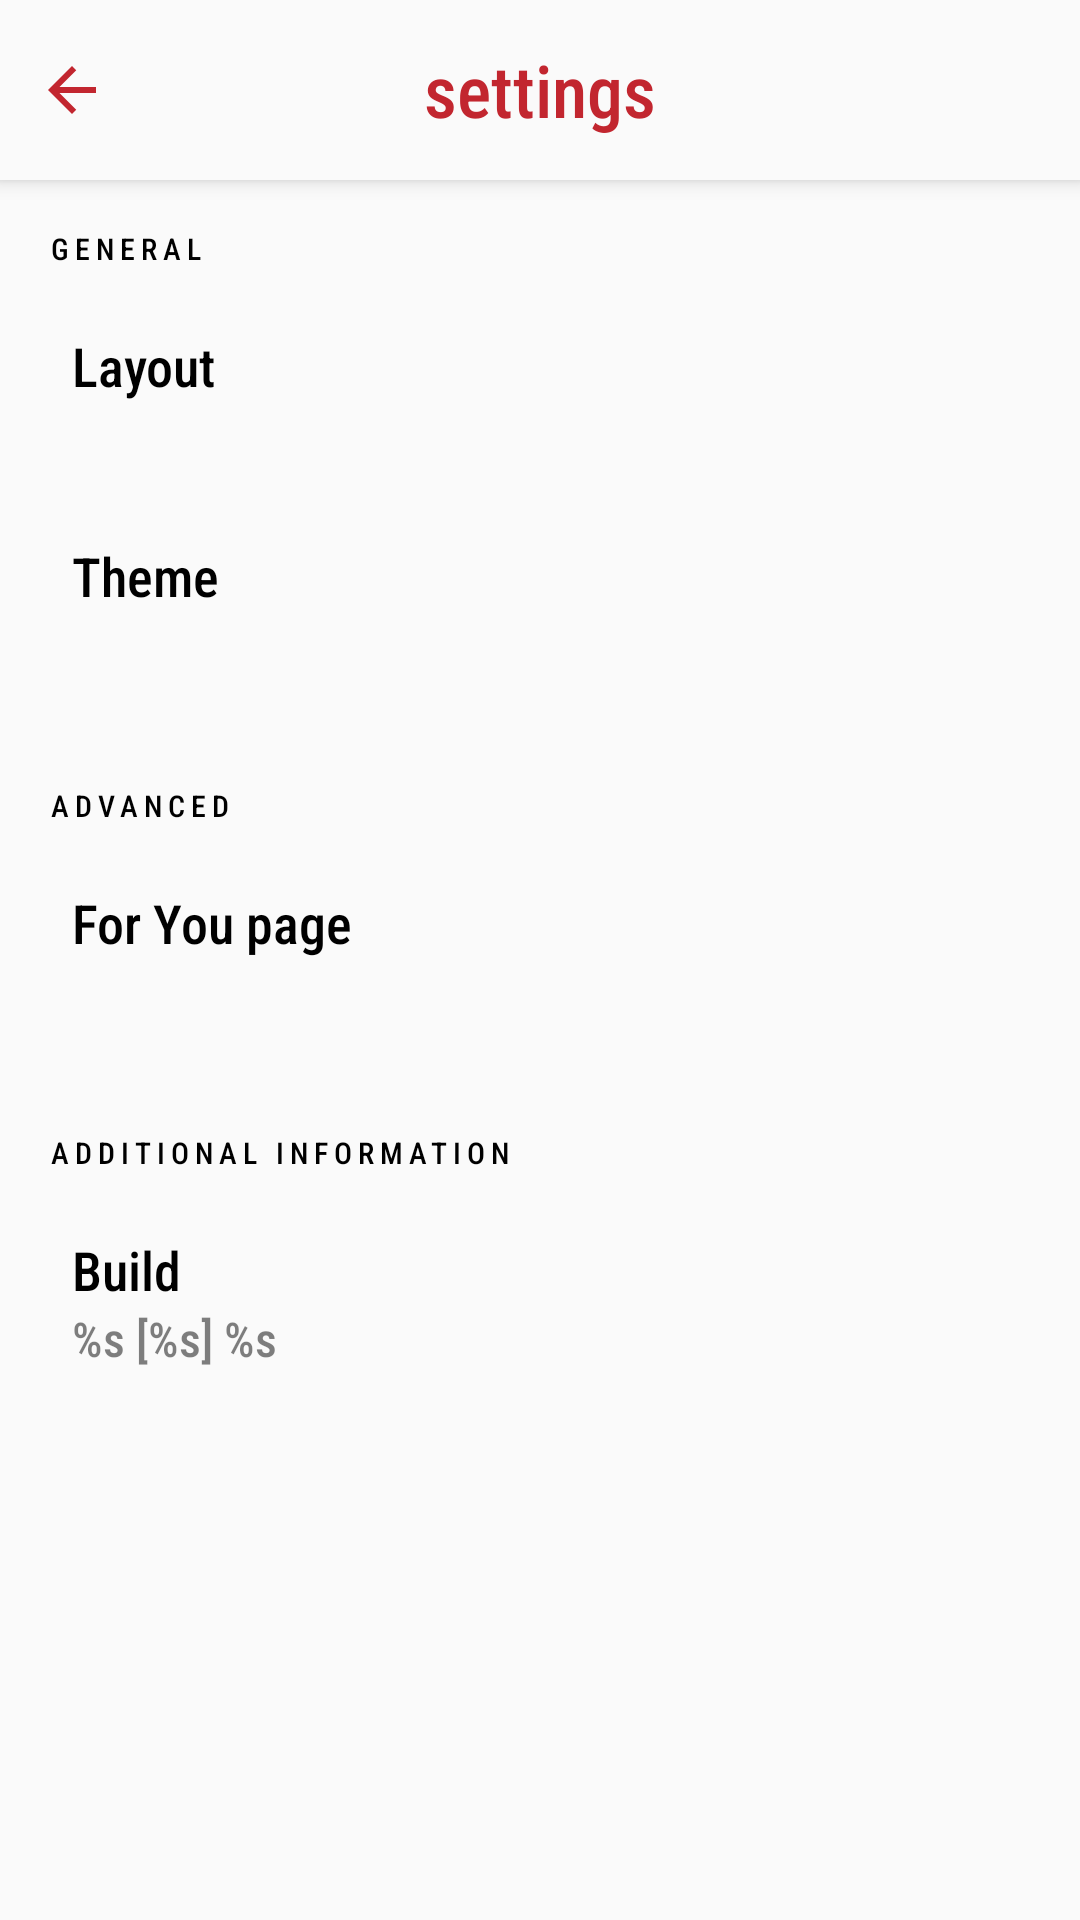

Screen size 1080×1920. Icon name, then its box in pixels as (x1, y1, x2, y2):
arrow back: (48, 66, 96, 114)
